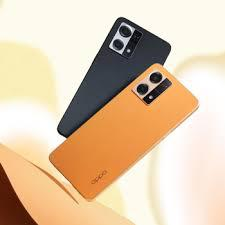Smartphone: (55, 69, 187, 207), (57, 20, 170, 135)
